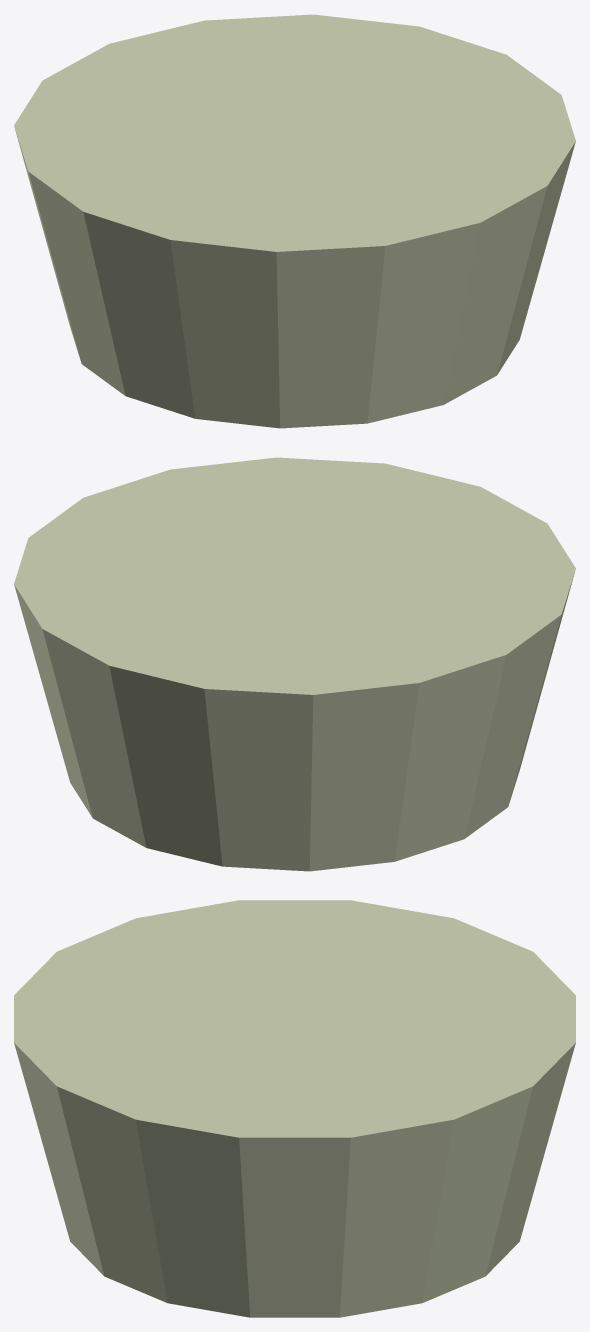
Rendered from castor_ion_engine_s0_1_collider.obj.
3 views of the same model, one above another, from view 1: azimuth 30°, elevation 25°; view 2: azimuth 150°, elevation 25°; view 3: azimuth 270°, elevation 25° (orthographic).
Parts seen in each view (by area): view 1: castor_ion_engine_s0p1_1_collider; view 2: castor_ion_engine_s0p1_1_collider; view 3: castor_ion_engine_s0p1_1_collider.
Boxes of the visible parts, left/top/right/bottom form: castor_ion_engine_s0p1_1_collider: left=14, top=14, right=575, bottom=428; castor_ion_engine_s0p1_1_collider: left=14, top=457, right=575, bottom=871; castor_ion_engine_s0p1_1_collider: left=14, top=900, right=575, bottom=1317.
Bounding box in the file's own units: 0.625 × 0.25 × 0.625.
